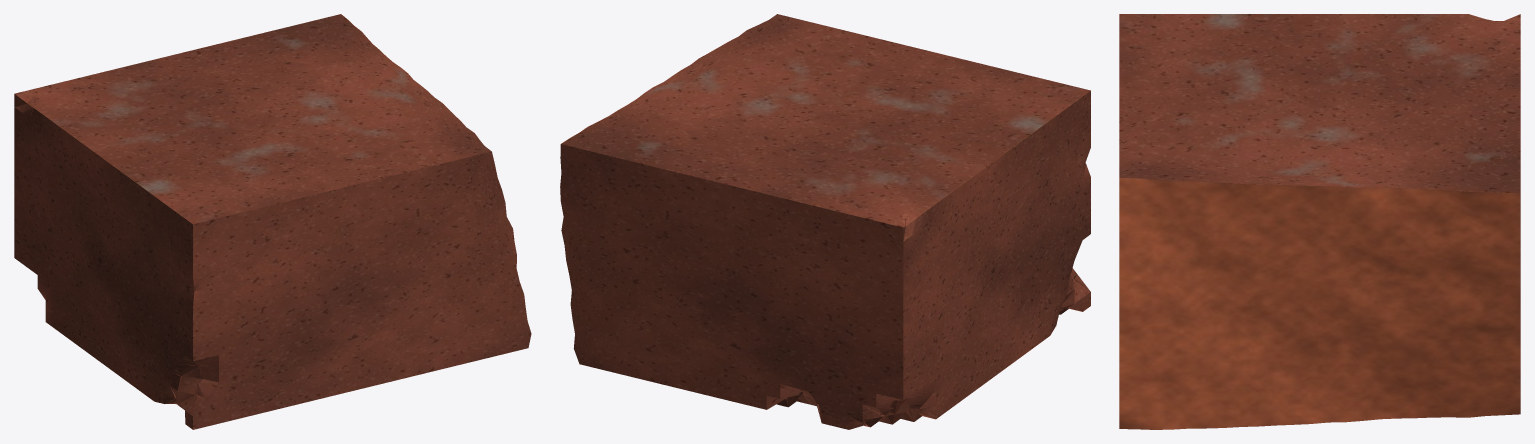
The model's file is BrickHalf.obj.
3 renders of one model, left to right at view 1: azimuth 30°, elevation 25°; view 2: azimuth 150°, elevation 25°; view 3: azimuth 270°, elevation 25°, orthographic. The views are drawn at different scales.
Parts seen in each view (by area): view 1: Brick; view 2: Brick; view 3: Brick.
Part boxes in pixels (x1=…): Brick: x1=14, y1=14, x2=531, y2=429; Brick: x1=560, y1=14, x2=1090, y2=429; Brick: x1=1119, y1=14, x2=1520, y2=429.
Bounding box in the file's own units: 0.112 × 0.065 × 0.1024.
1 material, 1 textured.
